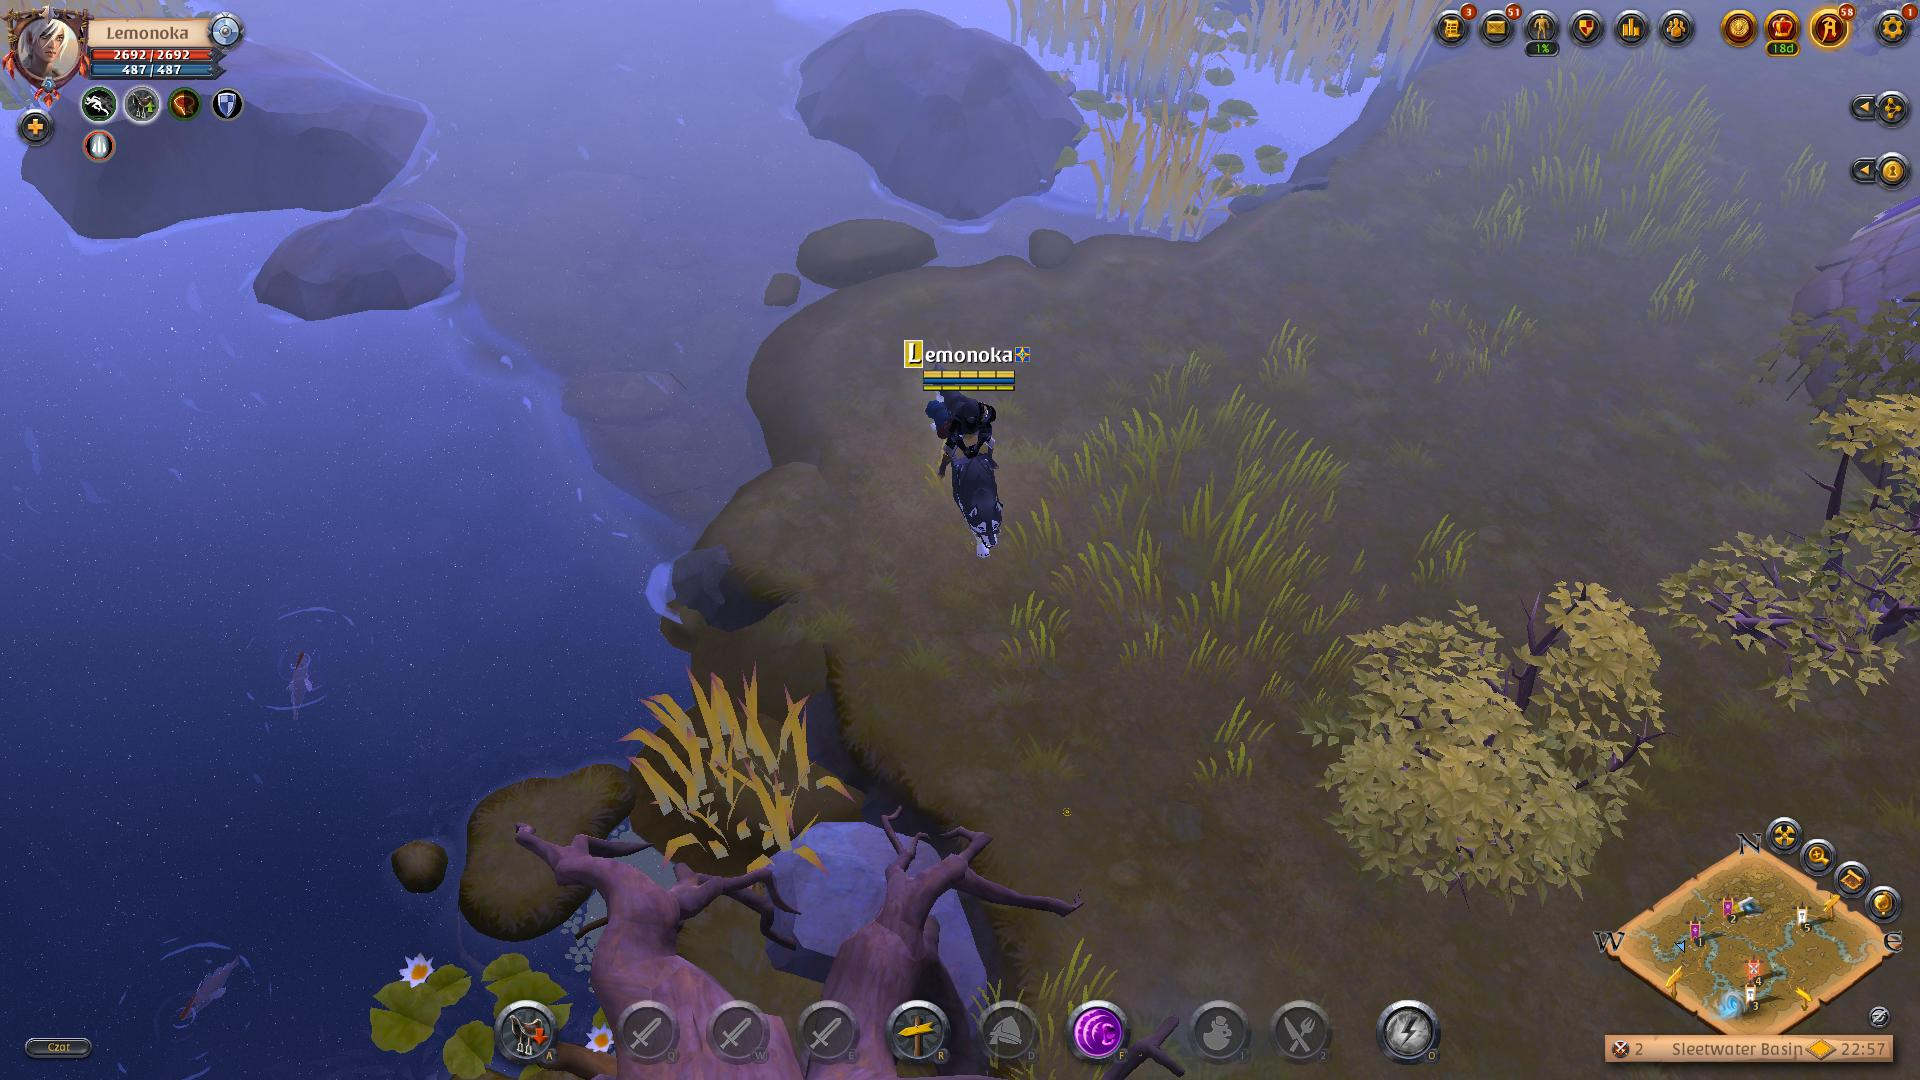fish: (99, 924, 268, 1080), (219, 592, 372, 725)
